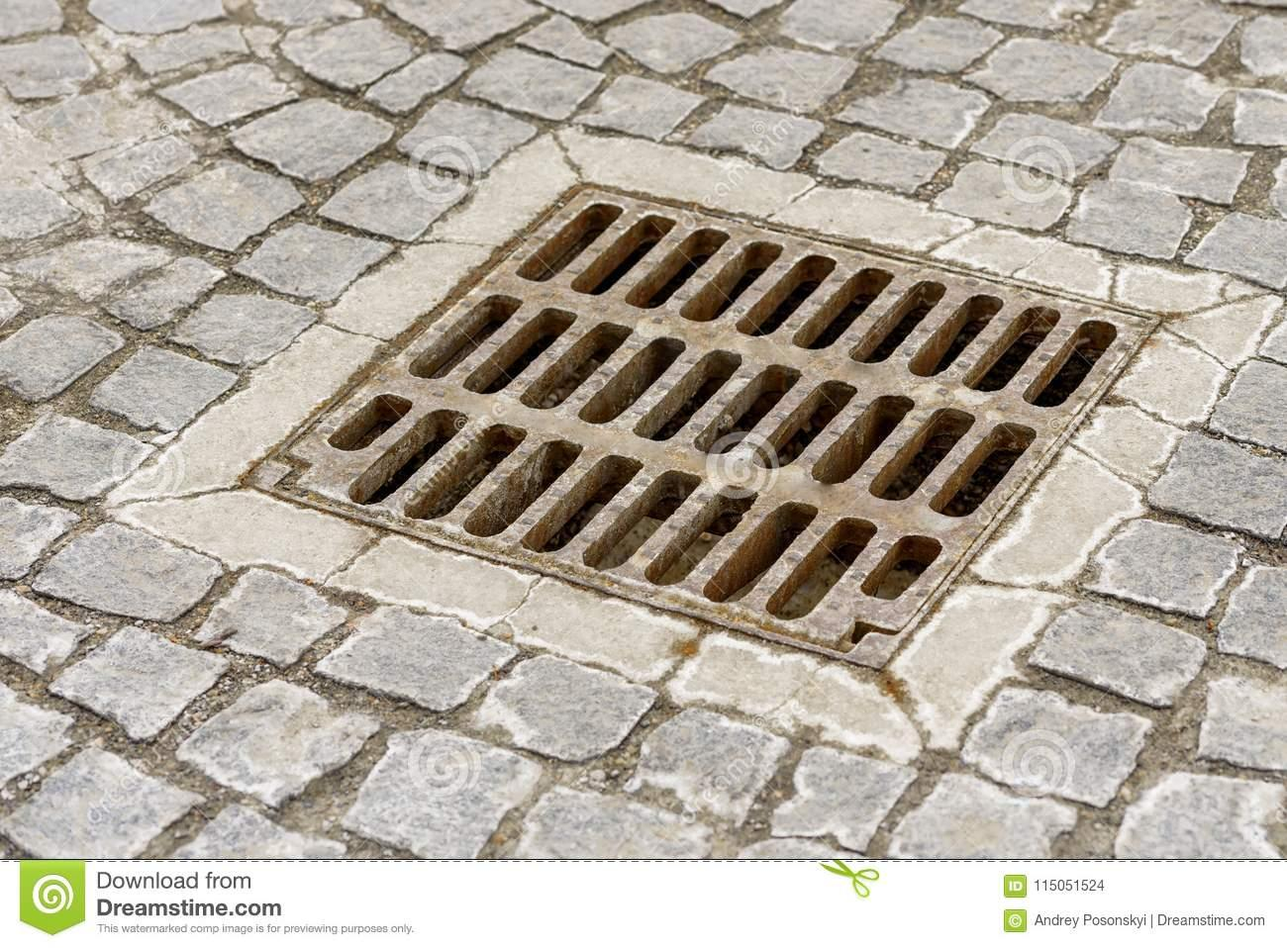open manhole-not overflowing-: (224, 176, 1177, 715)
